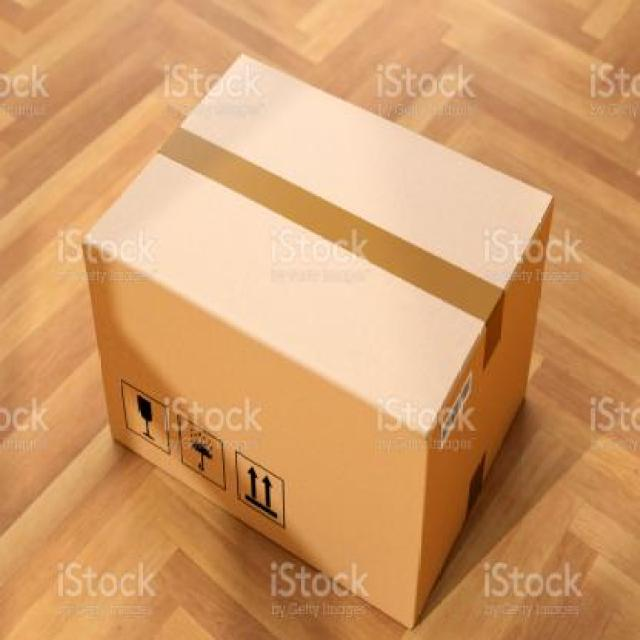box: (62, 53, 580, 640)
